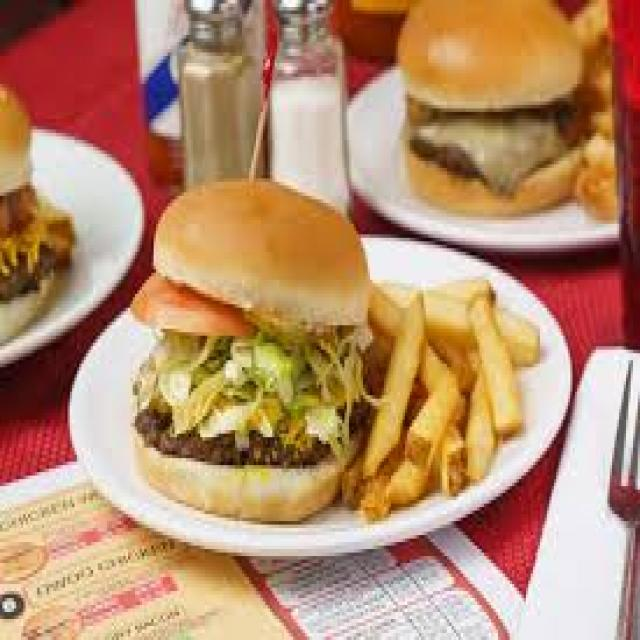Burger: (123, 161, 354, 514), (390, 0, 590, 223)
French Fries: (363, 273, 528, 514)
